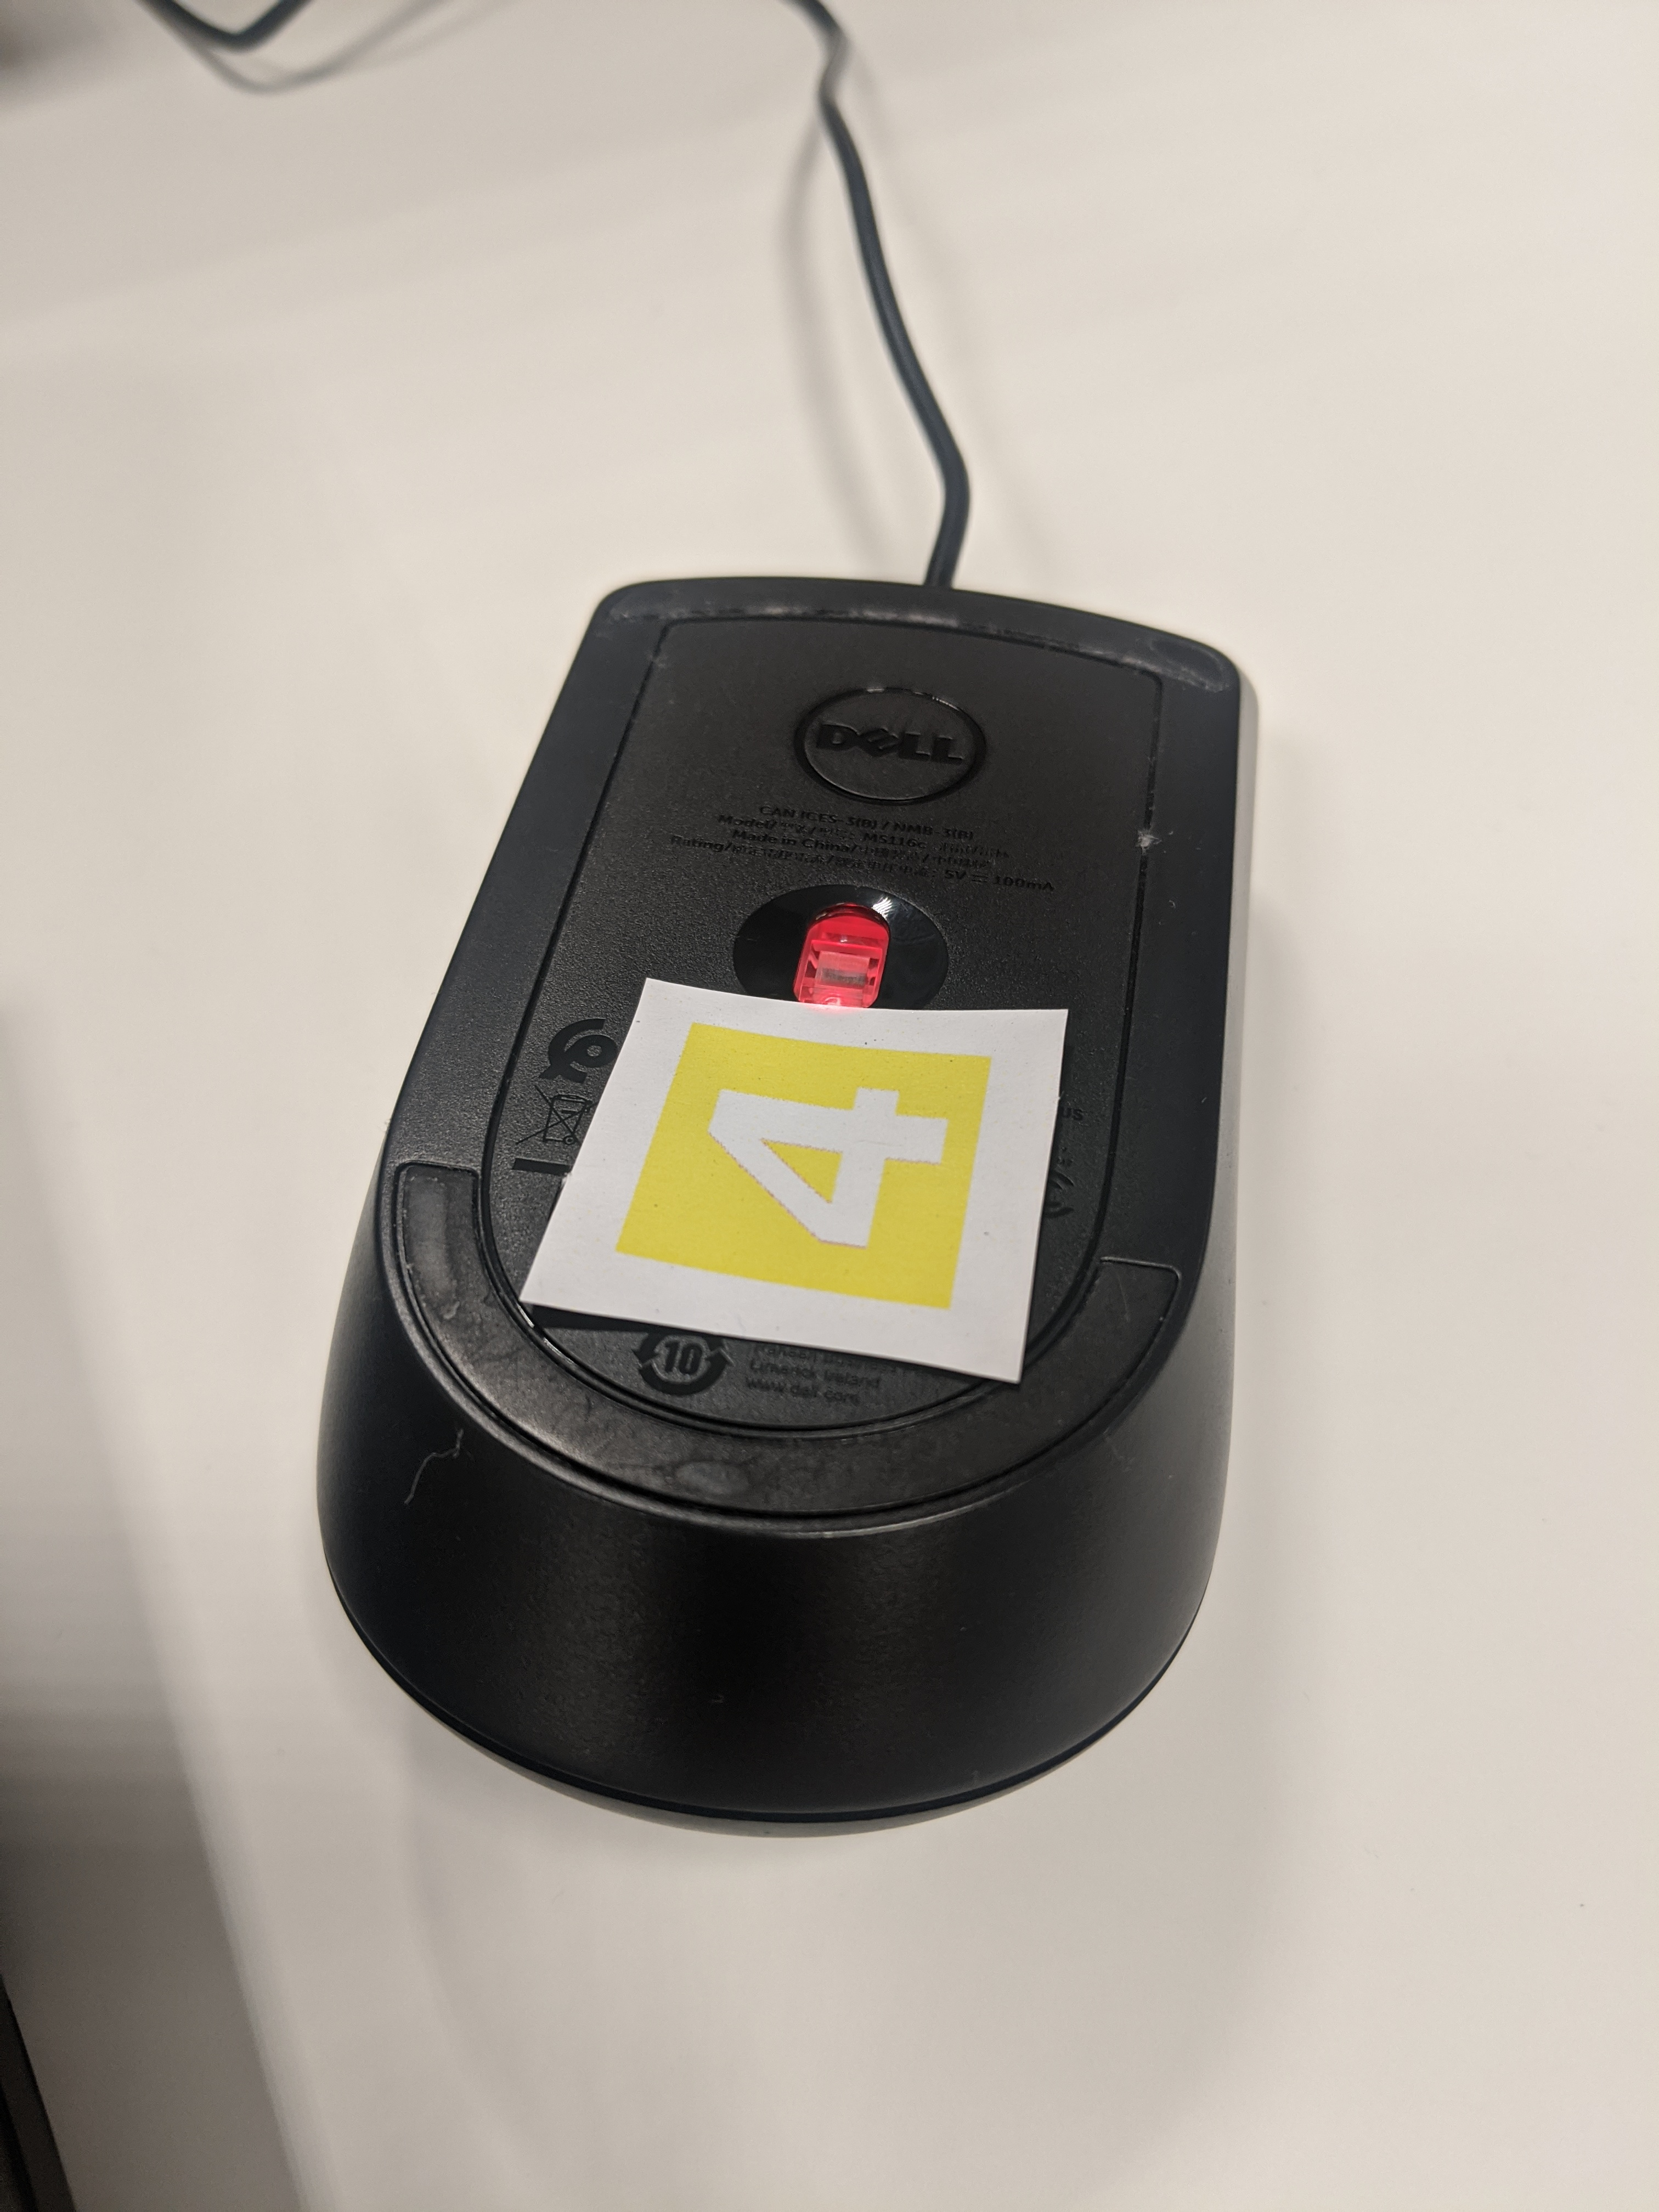yellow marker: (516, 951, 1072, 1400)
